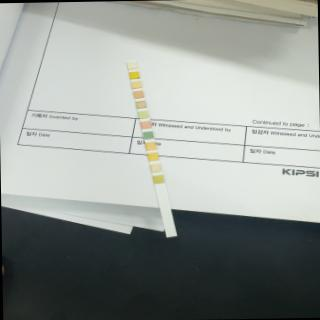mark: (131, 80, 141, 88), (134, 90, 144, 98), (138, 110, 148, 118), (140, 120, 150, 128), (146, 142, 156, 150), (148, 152, 158, 160), (150, 164, 160, 172), (153, 175, 163, 183), (143, 131, 153, 138), (136, 101, 145, 108), (127, 62, 137, 68), (128, 72, 138, 78)
